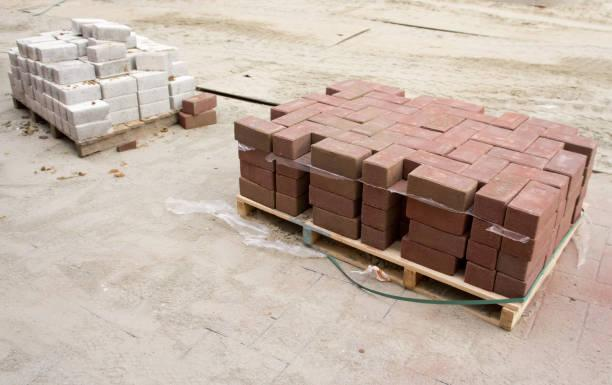Bricks: (473, 162, 542, 226), (408, 162, 475, 212), (504, 181, 560, 237), (311, 137, 372, 179), (361, 142, 415, 187), (405, 198, 465, 236), (408, 221, 466, 259), (272, 120, 326, 159), (401, 150, 468, 181), (314, 126, 393, 151), (545, 149, 587, 196), (400, 239, 454, 275), (234, 114, 285, 151), (473, 124, 538, 152), (309, 166, 357, 201), (312, 204, 358, 239), (433, 119, 489, 147), (274, 102, 337, 125), (309, 186, 354, 218), (485, 146, 547, 169), (374, 128, 430, 153), (463, 155, 510, 184), (533, 168, 569, 204), (544, 126, 598, 149), (241, 159, 277, 192), (532, 211, 557, 258), (469, 217, 504, 250), (449, 139, 494, 164), (499, 231, 535, 261), (525, 238, 550, 280), (308, 110, 363, 129), (240, 178, 274, 208), (527, 116, 578, 136), (239, 143, 275, 171), (466, 262, 498, 293), (390, 121, 441, 140), (497, 252, 529, 282), (434, 96, 487, 114), (465, 242, 499, 270), (526, 135, 564, 160), (422, 111, 467, 132), (494, 274, 526, 303), (350, 116, 395, 136), (448, 106, 497, 123), (134, 70, 171, 92), (556, 207, 573, 254), (380, 109, 423, 127), (334, 81, 379, 98), (411, 102, 451, 121), (176, 110, 215, 129), (525, 259, 545, 296), (74, 120, 111, 140), (343, 106, 386, 123), (363, 183, 390, 210), (272, 97, 317, 113), (373, 100, 418, 116), (65, 85, 101, 105), (363, 89, 410, 104), (94, 43, 129, 63), (566, 178, 584, 216), (100, 59, 131, 81), (182, 94, 216, 114), (492, 112, 529, 130), (361, 206, 388, 230), (342, 95, 380, 112), (67, 98, 109, 113), (102, 80, 137, 98), (417, 140, 454, 157), (72, 106, 109, 123), (57, 66, 95, 82), (361, 225, 385, 250), (138, 85, 170, 103), (327, 77, 363, 92), (172, 89, 197, 109), (109, 105, 138, 122), (276, 155, 298, 177), (276, 173, 297, 196), (140, 102, 170, 118), (108, 94, 138, 110), (136, 56, 167, 71), (42, 49, 76, 62), (275, 194, 296, 215), (406, 94, 435, 109), (515, 121, 544, 136), (172, 77, 197, 94), (95, 29, 129, 40), (319, 94, 350, 106), (555, 201, 567, 227), (373, 85, 403, 94), (329, 108, 354, 118), (52, 70, 60, 82), (44, 68, 52, 80), (20, 43, 27, 56), (67, 111, 74, 123), (56, 113, 62, 127), (88, 49, 95, 61), (44, 83, 50, 95), (28, 61, 34, 73), (36, 64, 43, 74), (60, 105, 66, 116), (47, 97, 52, 110), (60, 90, 65, 102), (28, 48, 34, 58), (54, 101, 59, 113), (36, 49, 41, 60), (53, 86, 58, 97), (70, 126, 75, 137), (37, 79, 42, 89), (41, 96, 46, 105), (50, 113, 55, 122), (31, 76, 36, 85), (65, 123, 69, 133)
